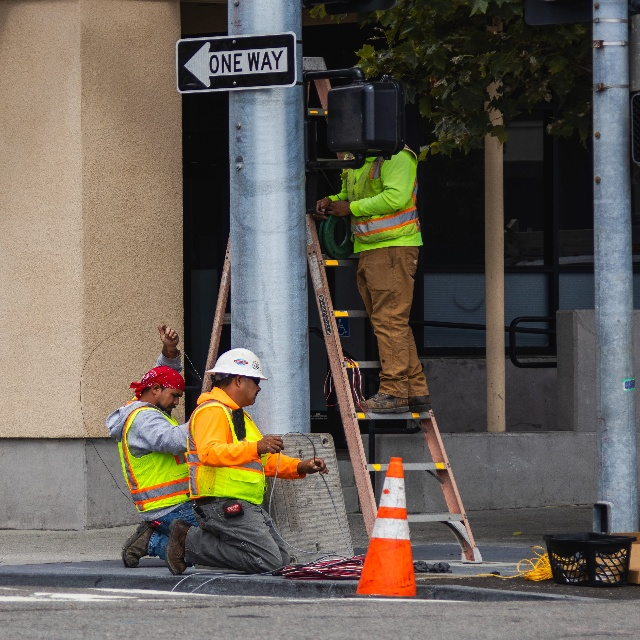Gafas: (246, 376, 260, 386)
Sin_guantes: (258, 434, 284, 455), (157, 324, 179, 348), (302, 457, 329, 475), (313, 196, 330, 221), (325, 200, 351, 216)
